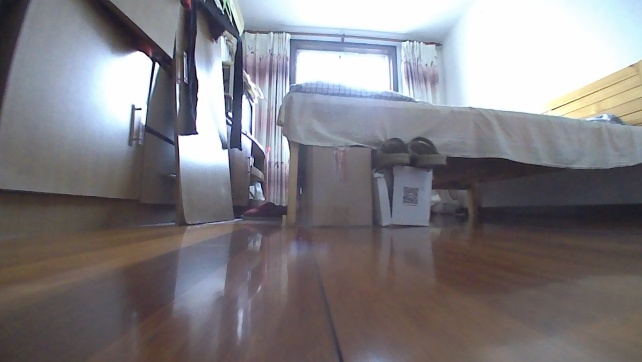bed: (272, 55, 641, 230)
shoe: (239, 200, 284, 223)
